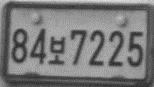2: (107, 29, 124, 67), (88, 30, 105, 67)
4: (29, 27, 46, 64)
5: (126, 29, 145, 68)
7: (69, 28, 86, 65)
8: (10, 26, 29, 64)
보: (46, 34, 67, 65)
